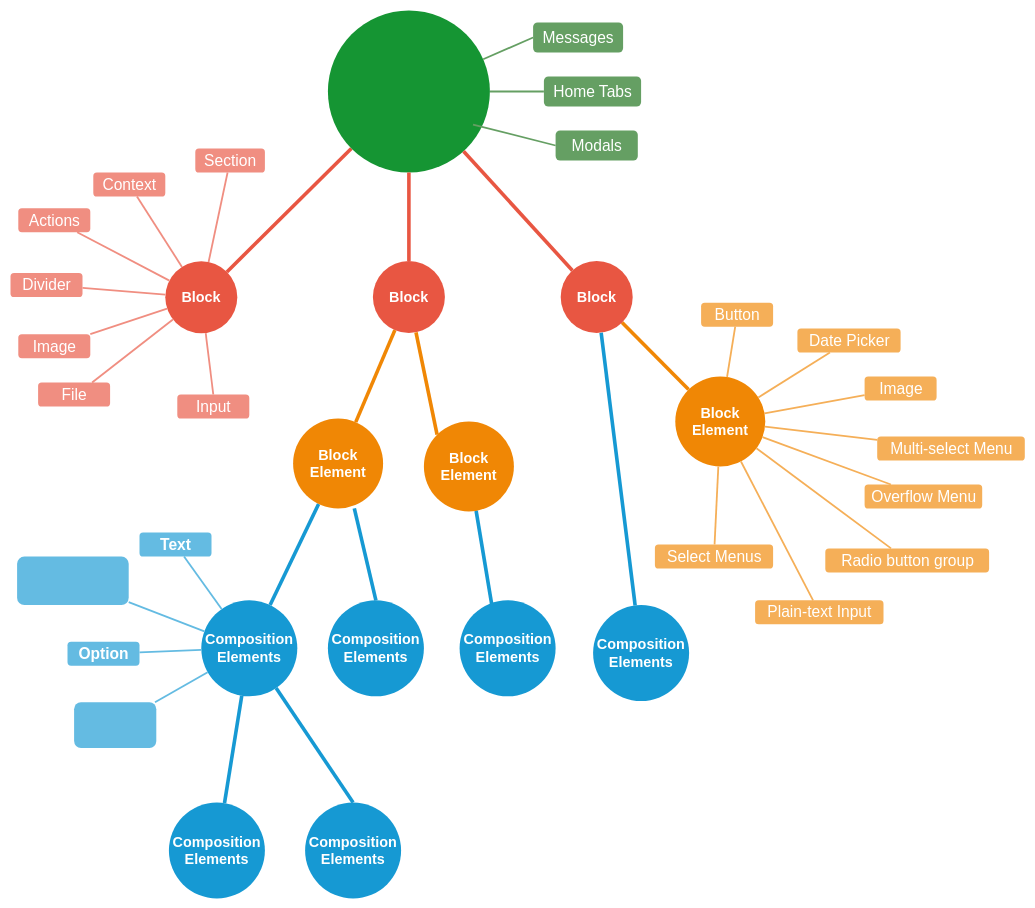
This 1035x908 diagram has some shape labels left out. The centre of each missing label's shape, as x and y in pixels:
App Surfaces: point 409,91
Confirmation dialog: point 72,580
Option group: point 115,725
